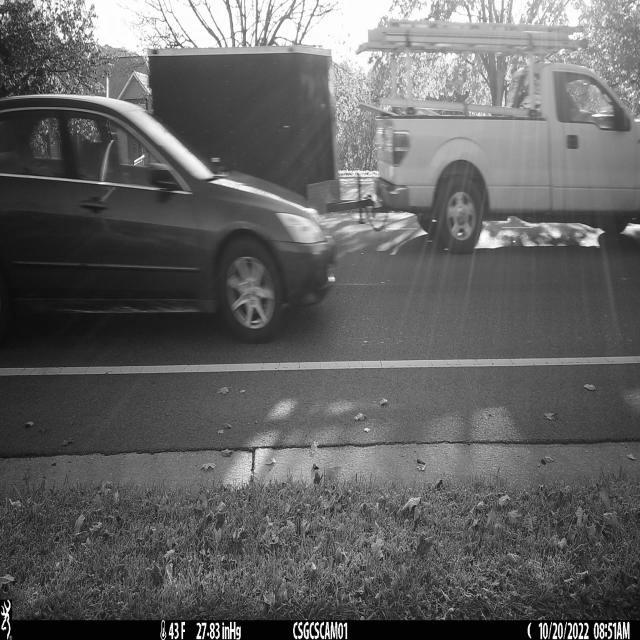Pickup: (356, 19, 640, 256)
Sedan: (0, 95, 337, 343)
Trailer: (148, 46, 371, 213)
